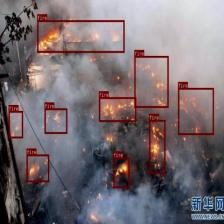fire: (37, 20, 124, 52), (134, 55, 168, 108), (178, 88, 214, 134), (98, 96, 136, 122), (149, 119, 165, 174), (26, 154, 49, 182), (44, 108, 67, 133), (113, 157, 129, 188), (8, 110, 23, 138)
